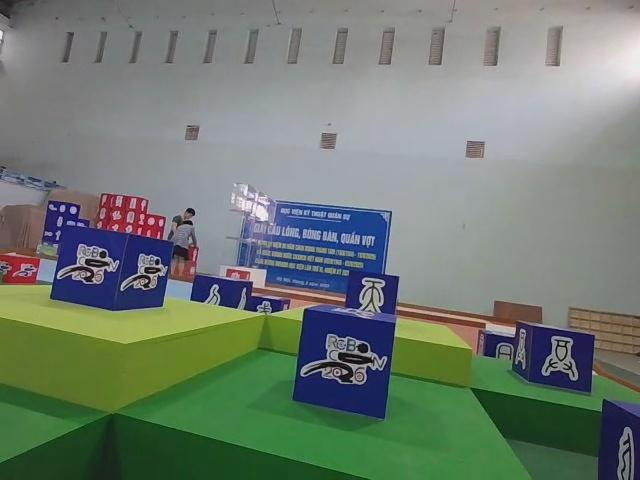R1 Blue: (292, 307, 397, 423), (52, 226, 174, 315)
R2 Fake Blue: (343, 269, 398, 316), (476, 328, 518, 358), (248, 297, 292, 316)
R2 Real Blue: (513, 323, 598, 397), (600, 398, 640, 479), (190, 272, 253, 310)
